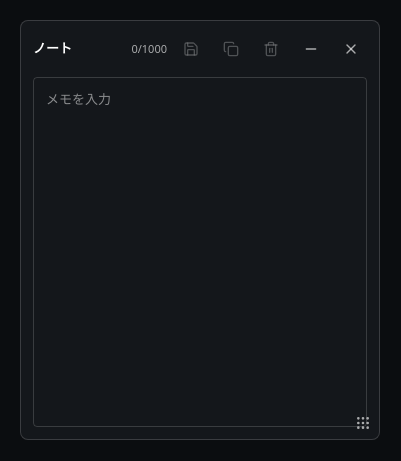
NotePanel › 消すものがない間は破棄を押せない
expect the button named "ノートを破棄" is disabled: met, box [255,33,287,65]
In the text box named "ノート本文": (200, 252) [33,77,367,427], type "下書き"
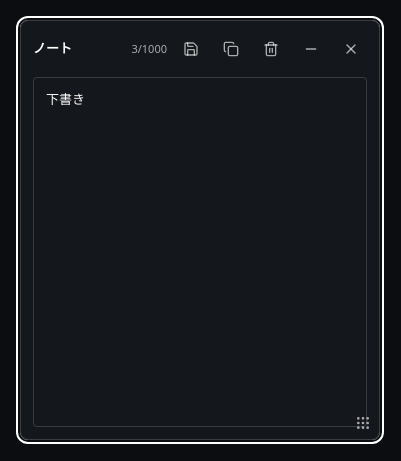
expect the button named "ノートを破棄" is enabled: met, box [255,33,287,65]
